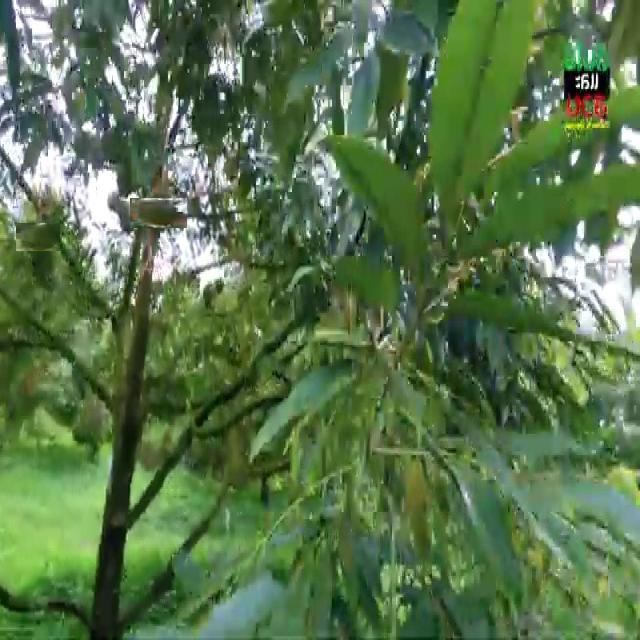durian: (137, 191, 181, 235), (20, 219, 56, 256)
